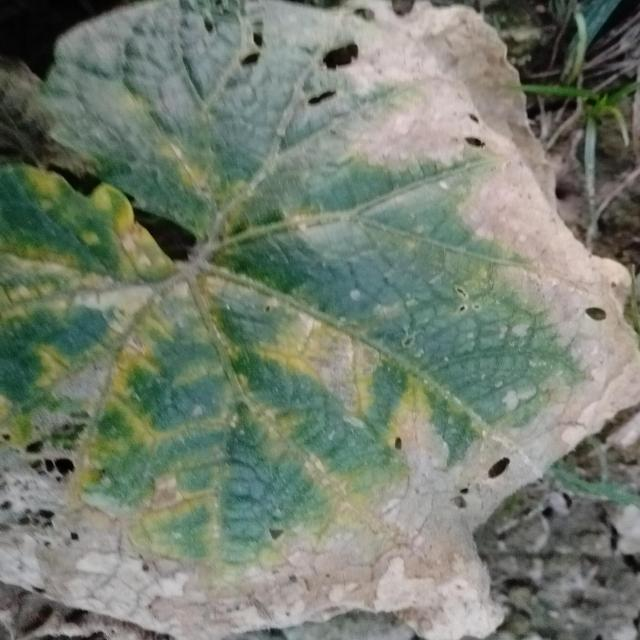cucumber_anthracnose: (5, 13, 637, 595)
